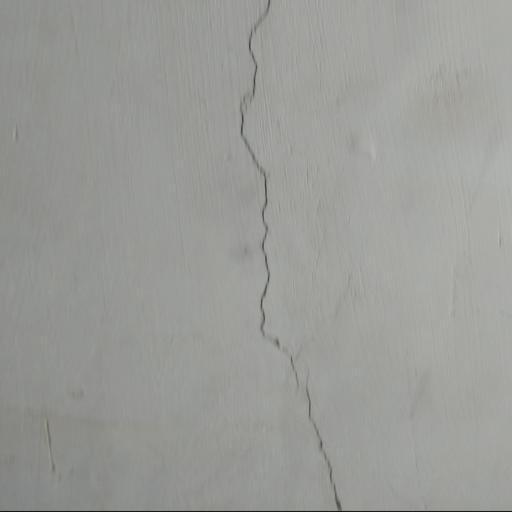minor_crack: (234, 0, 349, 512)
